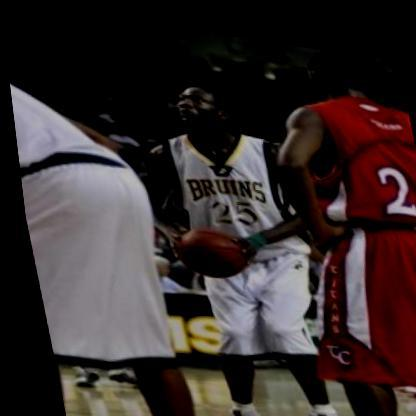basketball: (163, 216, 248, 279)
